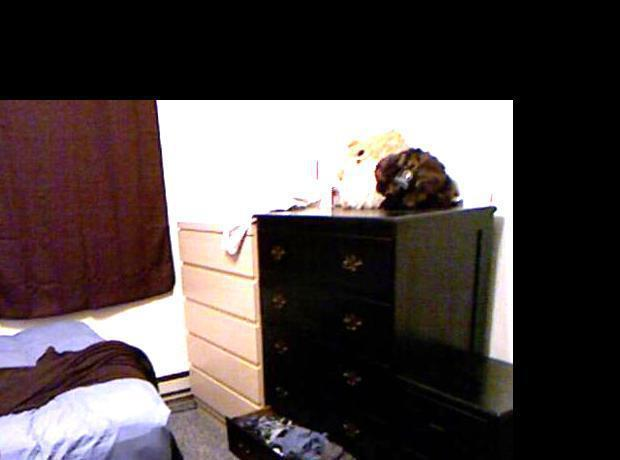Armario: (254, 211, 494, 460), (171, 207, 268, 442)
